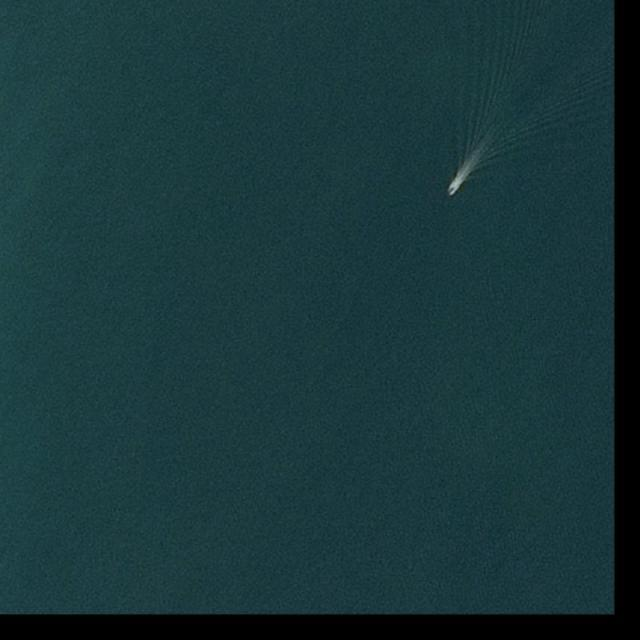ship: (446, 187, 454, 195)
